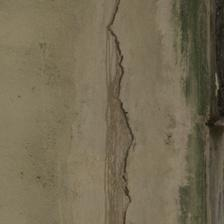Crack: (52, 3, 91, 219)
